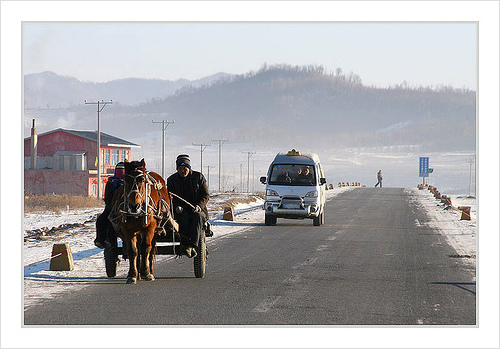horse: (107, 159, 171, 283)
